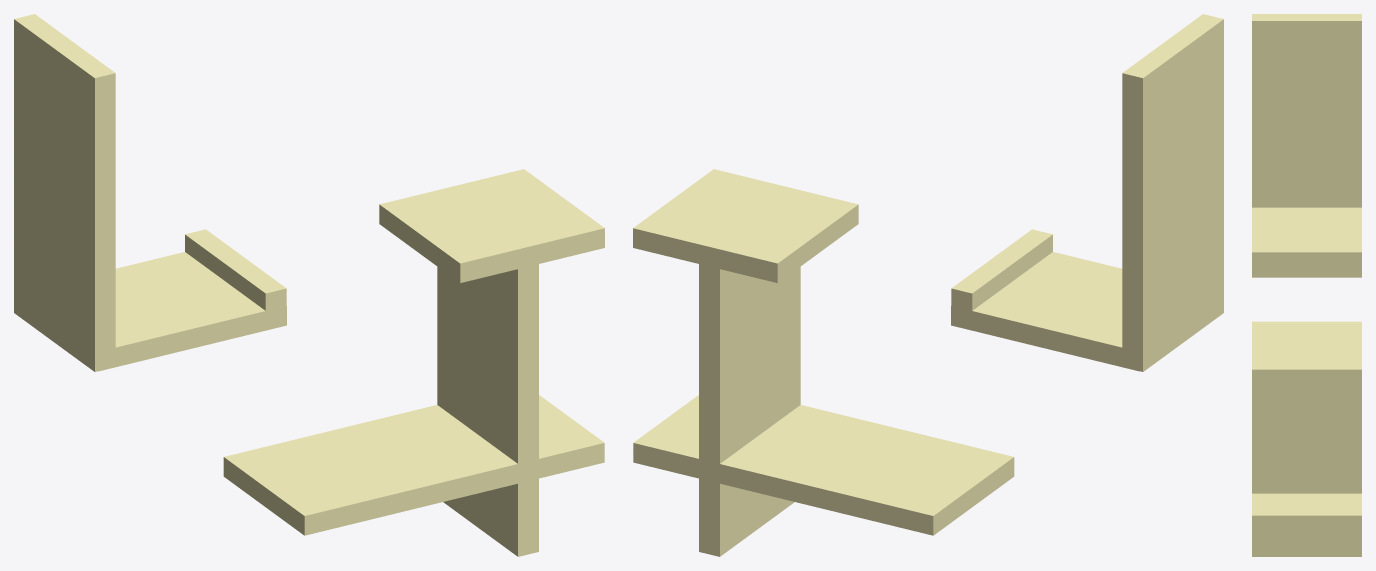
The picture shows the model from 3 angles, left to right: view 1: azimuth 30°, elevation 25°; view 2: azimuth 150°, elevation 25°; view 3: azimuth 270°, elevation 25°; orthographic projection. The views are drawn at different scales.
Visible parts, largest first — view 1: Wall__5_, Wall_8__4_, Wall__9_, Wall_8__8_, Wall_8__5_, Wall__6_; view 2: Wall__5_, Wall_8__4_, Wall__9_, Wall_8__8_, Wall_8__5_, Wall__6_; view 3: Wall__5_, Wall__9_, Wall_8__8_, Wall_8__5_, Wall_8__4_, Wall__6_.
Part boxes in pixels (x1,y1,x2,y2): Wall__5_: [14, 14, 115, 371]; Wall_8__4_: [223, 395, 604, 535]; Wall__9_: [437, 264, 538, 556]; Wall_8__8_: [379, 169, 604, 283]; Wall_8__5_: [98, 252, 286, 371]; Wall__6_: [185, 229, 286, 310]; Wall__5_: [1122, 14, 1223, 371]; Wall_8__4_: [633, 395, 1014, 535]; Wall__9_: [699, 264, 800, 556]; Wall_8__8_: [633, 169, 858, 283]; Wall_8__5_: [951, 252, 1139, 371]; Wall__6_: [951, 229, 1052, 310]; Wall__5_: [1252, 14, 1361, 207]; Wall__9_: [1252, 383, 1361, 556]; Wall_8__8_: [1252, 321, 1361, 383]; Wall_8__5_: [1252, 207, 1361, 277]; Wall_8__4_: [1252, 493, 1361, 528]; Wall__6_: [1252, 245, 1361, 264].
Size of the model in its own units: 391 by 426 by 107.
